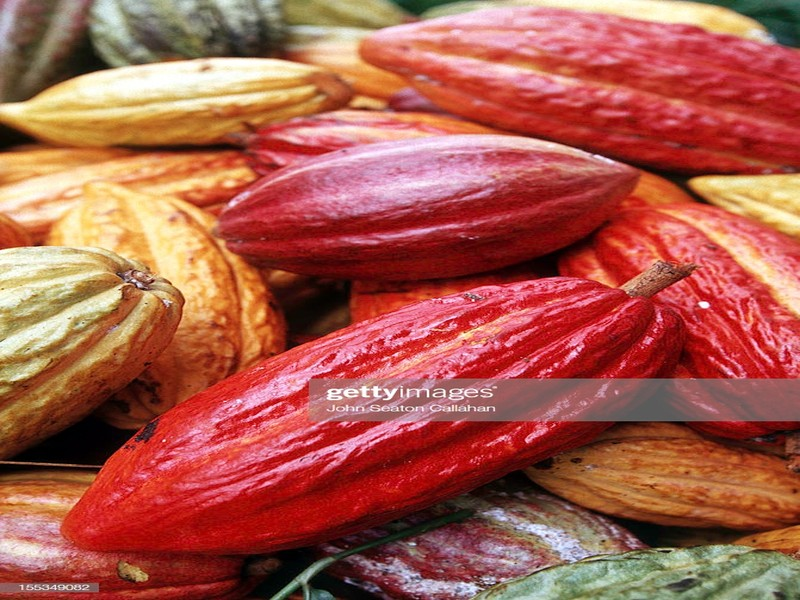Cacaopod: (63, 277, 686, 555), (215, 132, 645, 280)
